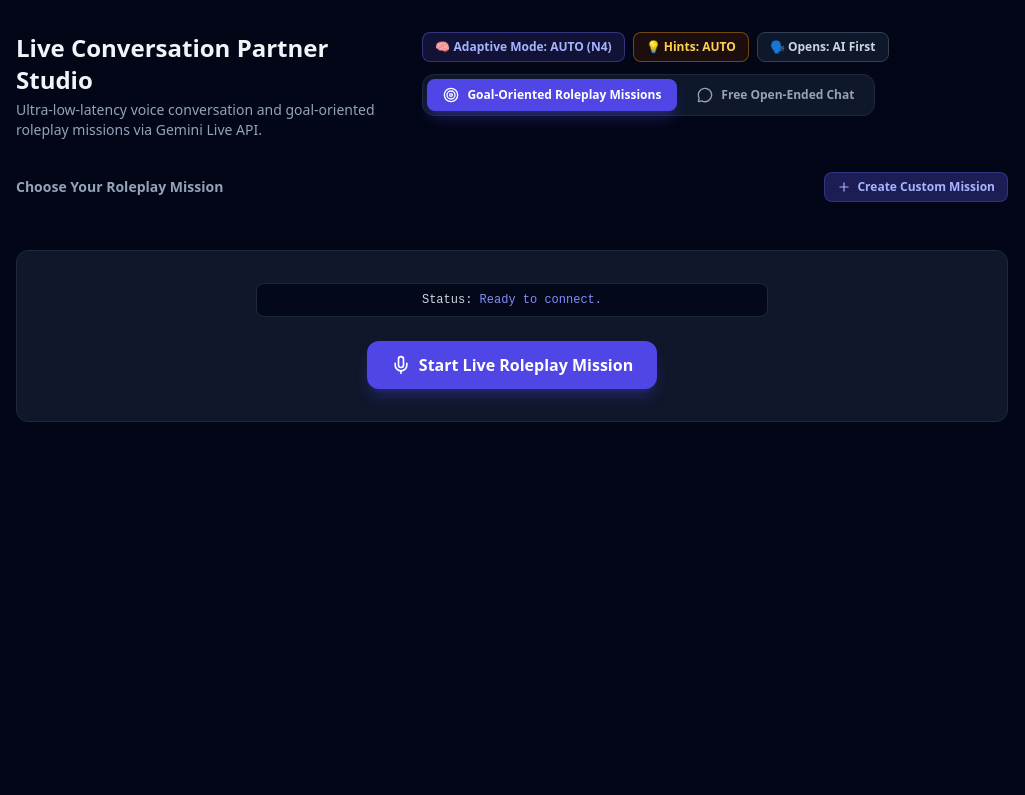
Test: LivePartnerView › displays adaptation mode chip in studio and passes profile to LiveAudioClient when in auto mode
Click the button "Free Open-Ended Chat" at (776, 95), box [681,79,870,111]
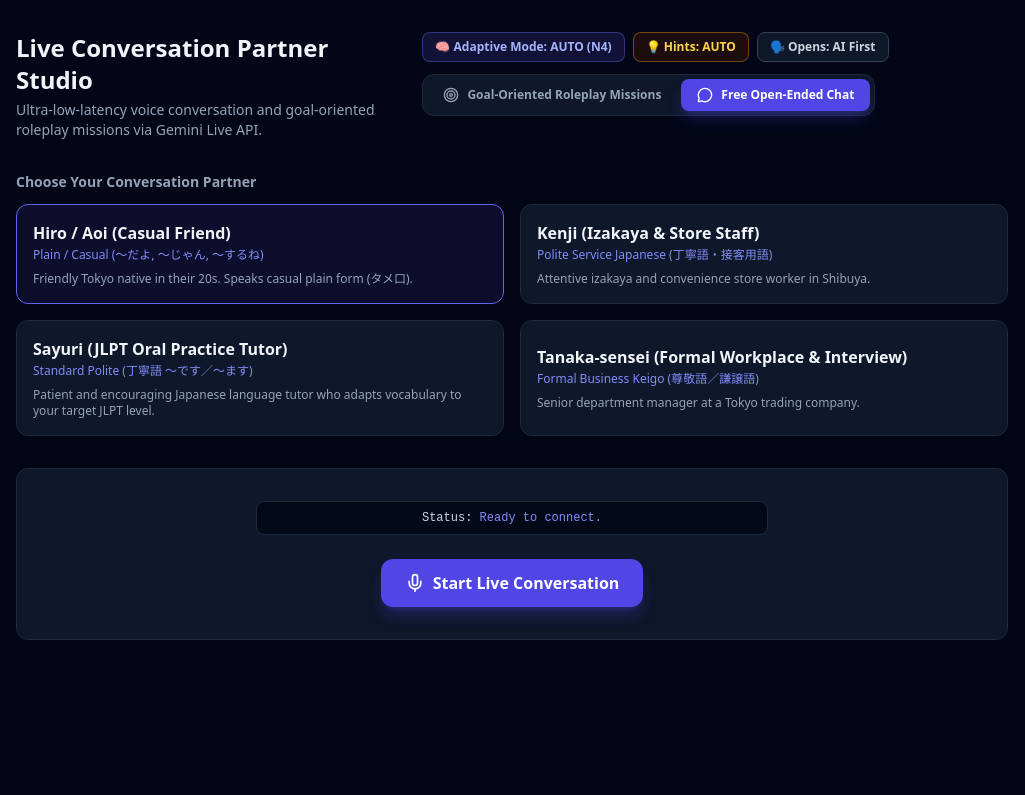
Expected: the button "🧠 Adaptive Mode: AUTO (N4)" is shown, [422,32,625,62]
Click the button "Start Live Conversation" at (512, 583), box [381,559,643,607]
(page scrolled)
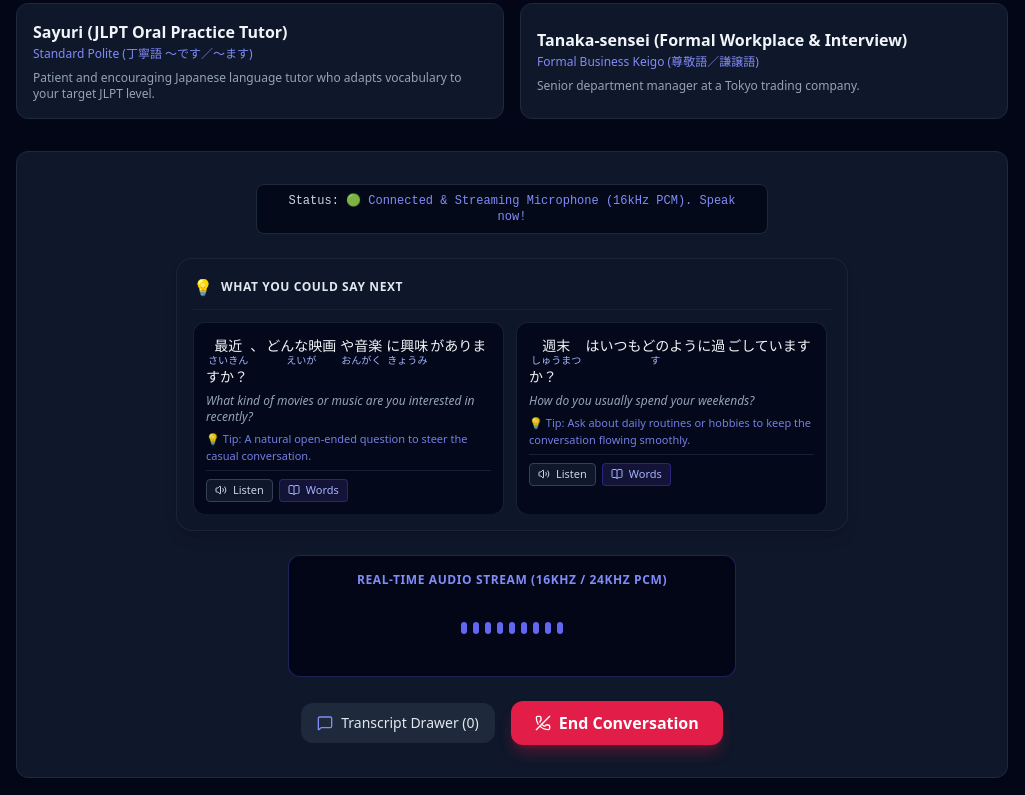
Click the button "End Conversation" at (617, 723), box [511,701,723,745]
(page scrolled)
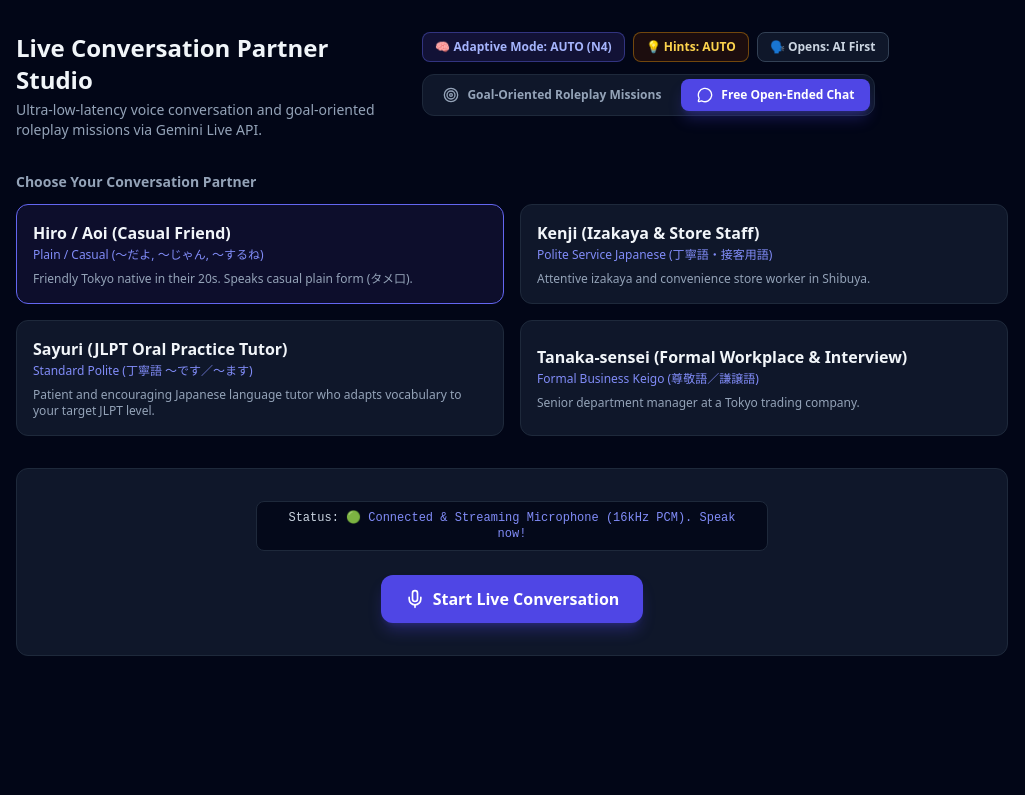
Click the button "🧠 Adaptive Mode: AUTO (N4)" at (524, 47), box [422,32,625,62]
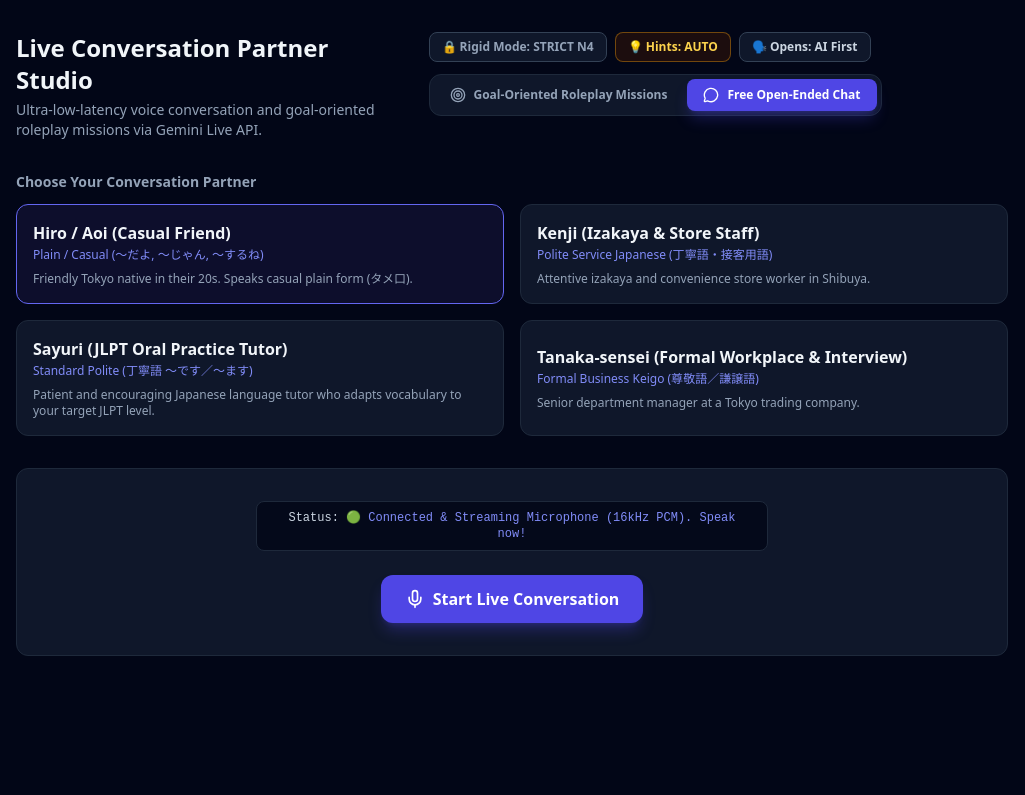
Expected: the button "🔒 Rigid Mode: STRICT N4" is shown, [428,32,607,62]
